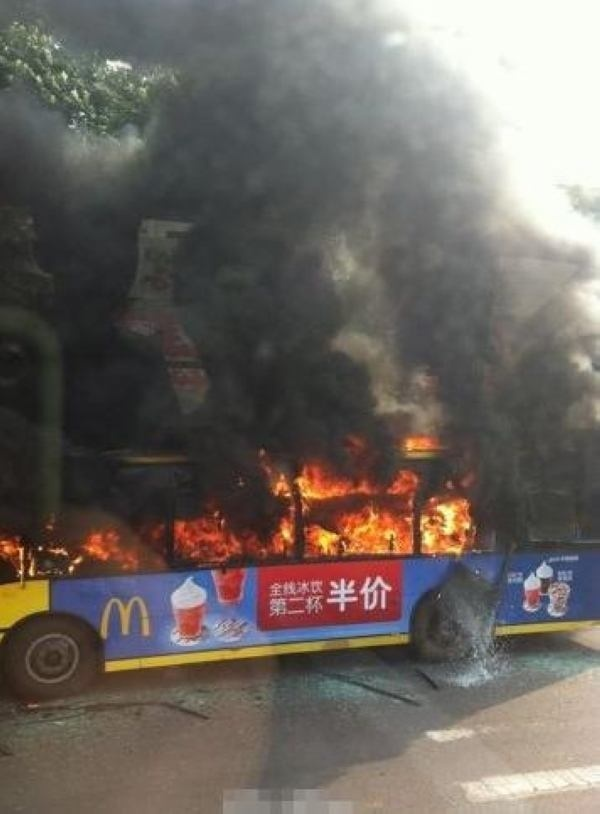fire: (15, 440, 476, 564)
